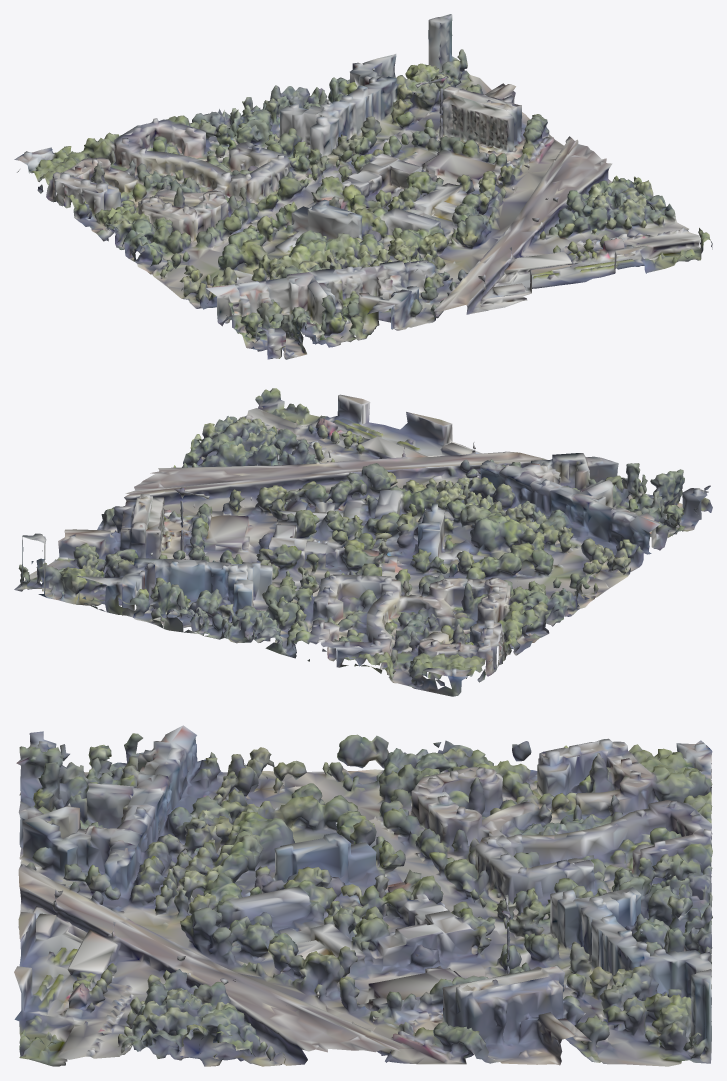
File: tile-3887_58203.glb
The picture shows the model from 3 angles, top to bottom: view 1: azimuth 30°, elevation 25°; view 2: azimuth 150°, elevation 25°; view 3: azimuth 270°, elevation 25°; orthographic projection. The views are drawn at different scales.
Visible parts, largest first — view 1: world; view 2: world; view 3: world.
Part boxes in pixels (box(x1,y1,x2,y2)): world: box(14, 14, 712, 359); world: box(14, 388, 712, 696); world: box(14, 725, 712, 1066).
Size of the model in its own units: 371 by 56.54 by 365.
